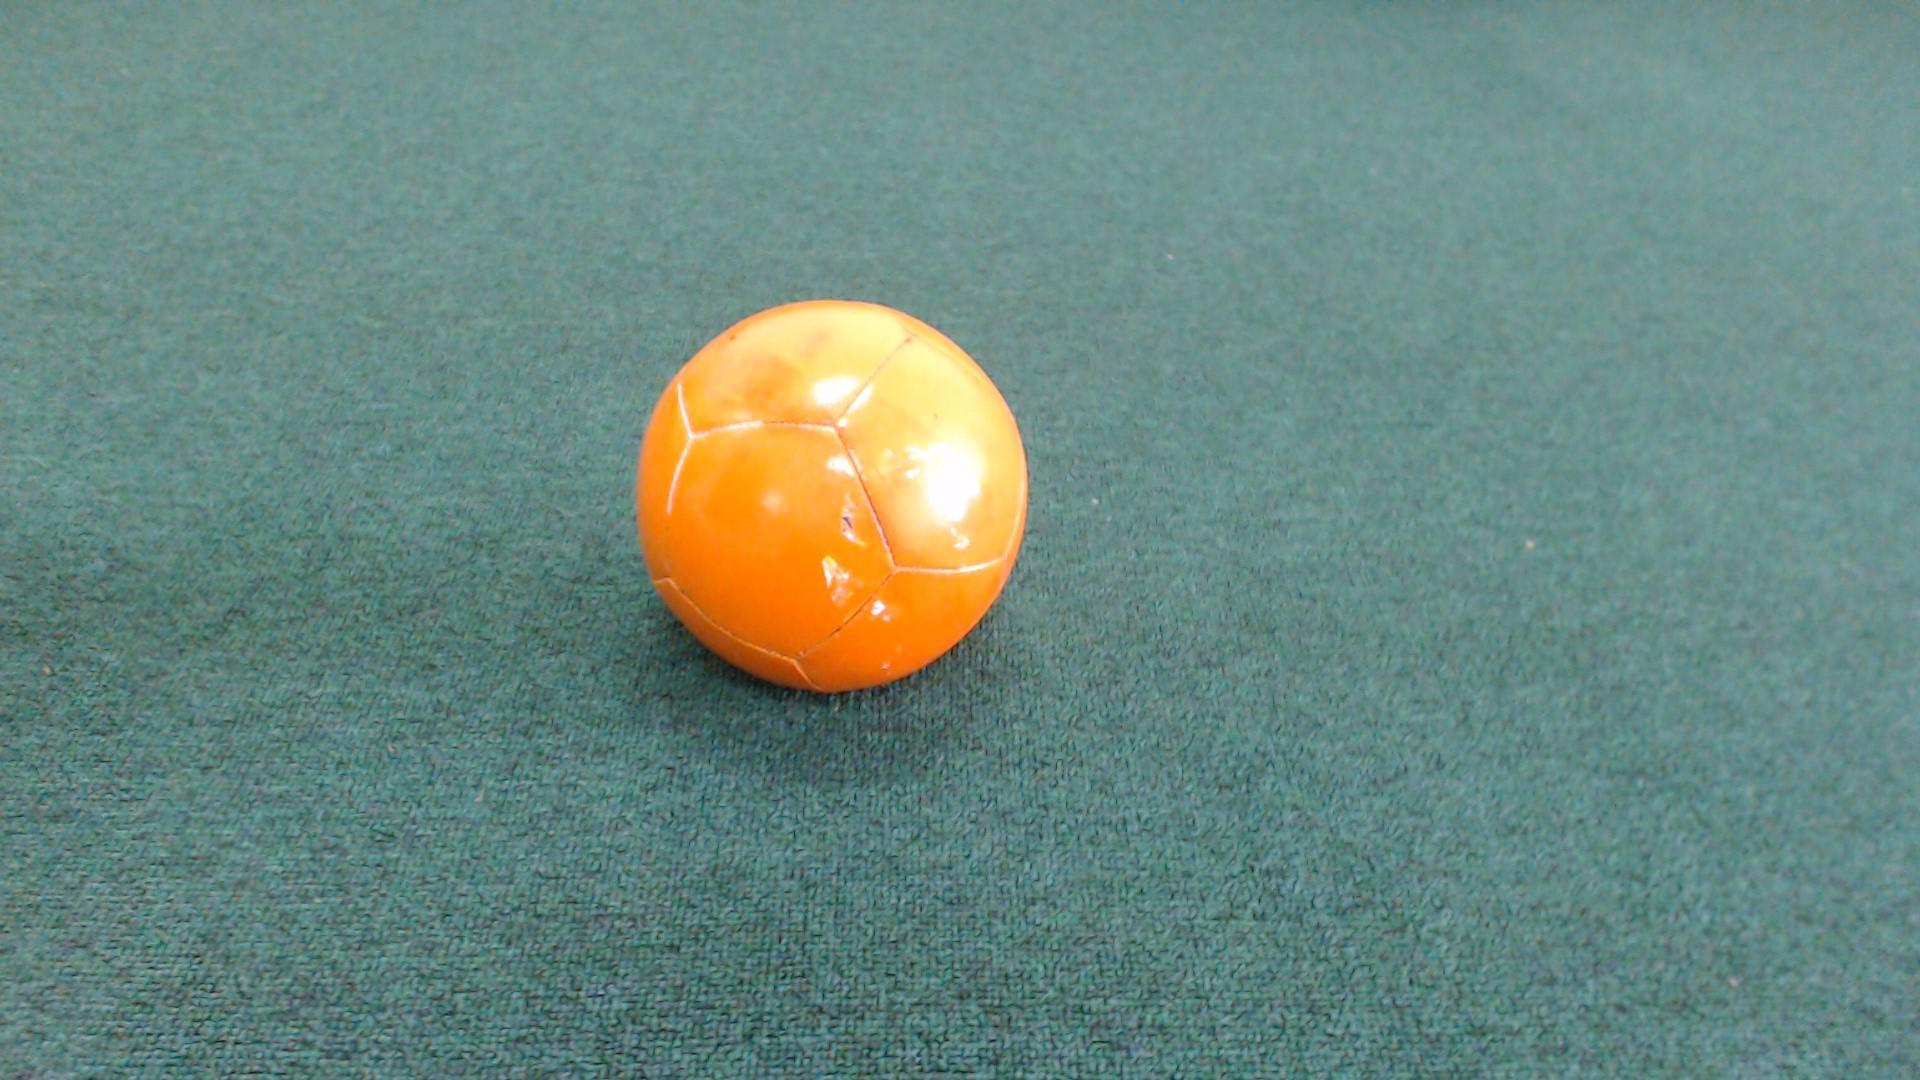bola: (626, 291, 1044, 711)
